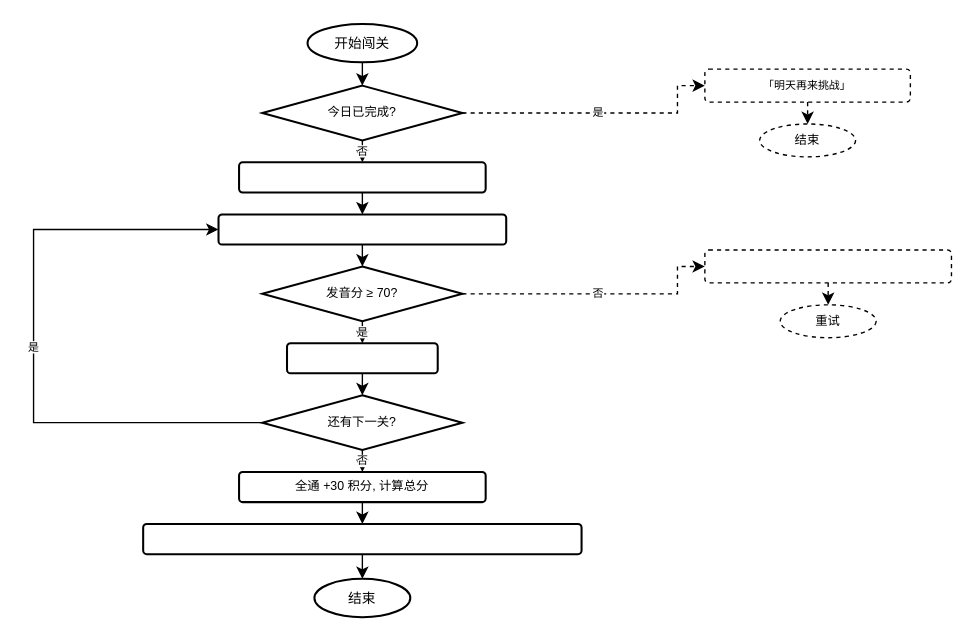
This 975x643 diagram has some shape labels left out. The shapes that lost their labels are listed below. From the top down, each one's centre as x and y in pixels, then its label:
At (361,177): "关卡 1-5 难度递增 A1→B2".
At (362,229): "用户跟读 → 调用发音评分 API".
At (827,266): "第 N 次失败? N≥3 → 提示听标准音".
At (361,358): "通过 +20 分".
At (362,538): "更新积分 + 检查勋章触发 (连续 7 天 → 坚持之星等)".
